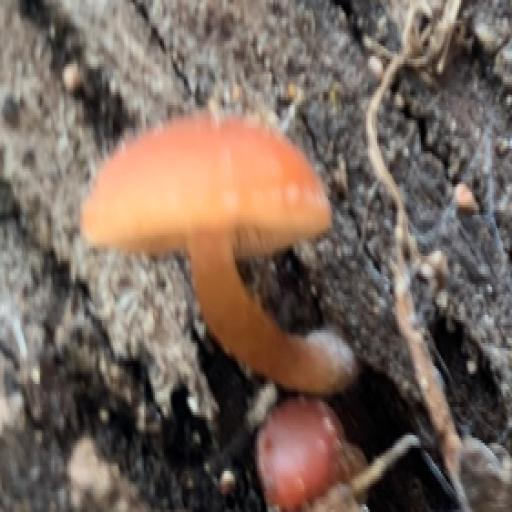mushroom: (59, 62, 444, 423)
